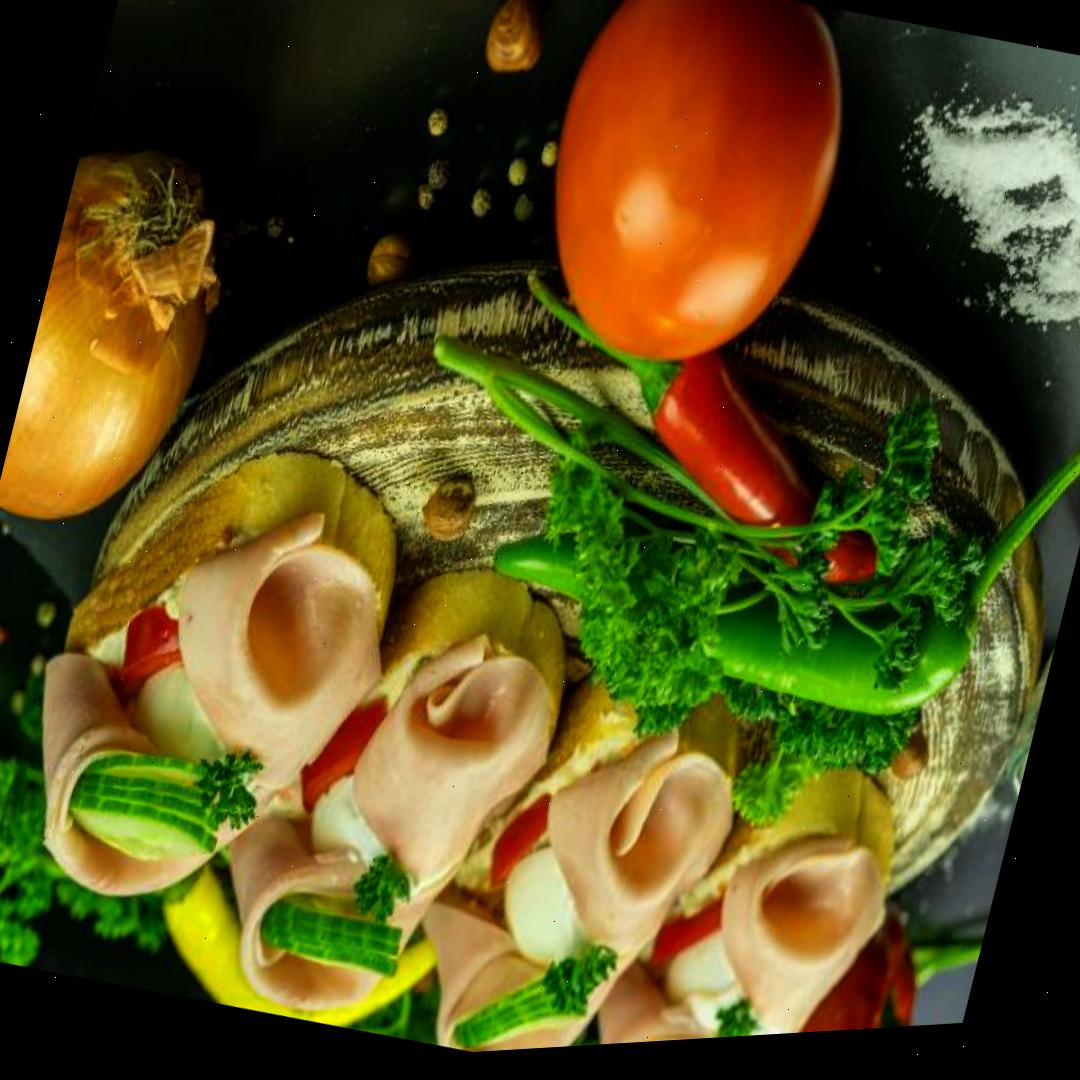matang: (510, 0, 871, 401)
